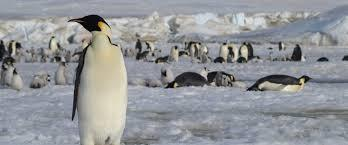emporer: (57, 11, 137, 145)
